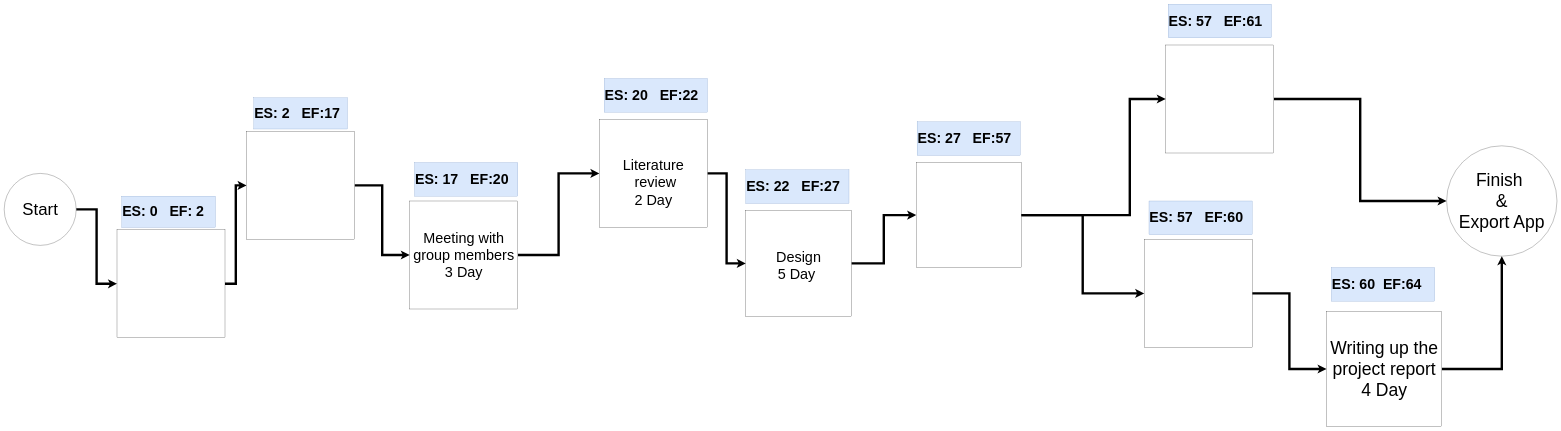
The diagram is 1561 pixels wide and 431 high, and some of its shapes have lost their labels. Each missing label, with the centre of its shape:
"Implementation 30 Day" goes at point 968,215.
"Preparing presentation 3 Day" goes at point 1198,293.
"Preparing problem statement 2 Day" goes at point 171,284.
"Testing 4 Day" goes at point 1220,99.
"Understanding general requirements 15 Day" goes at point 300,185.
